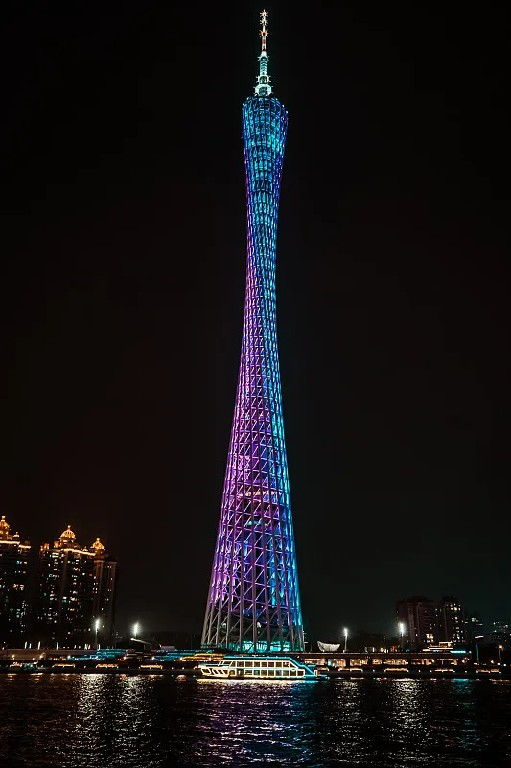Canton: (198, 5, 308, 652)
